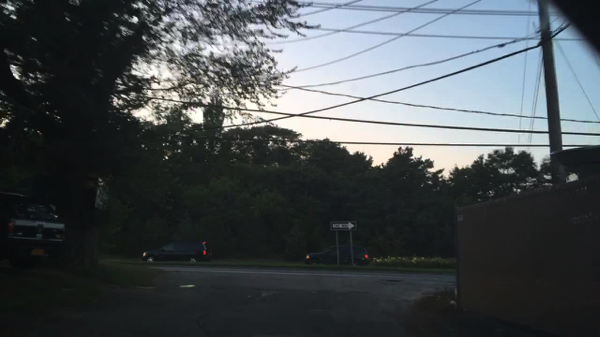car: (0, 190, 67, 259), (141, 239, 209, 262)
traffic sign: (303, 244, 369, 266), (330, 220, 358, 232)
